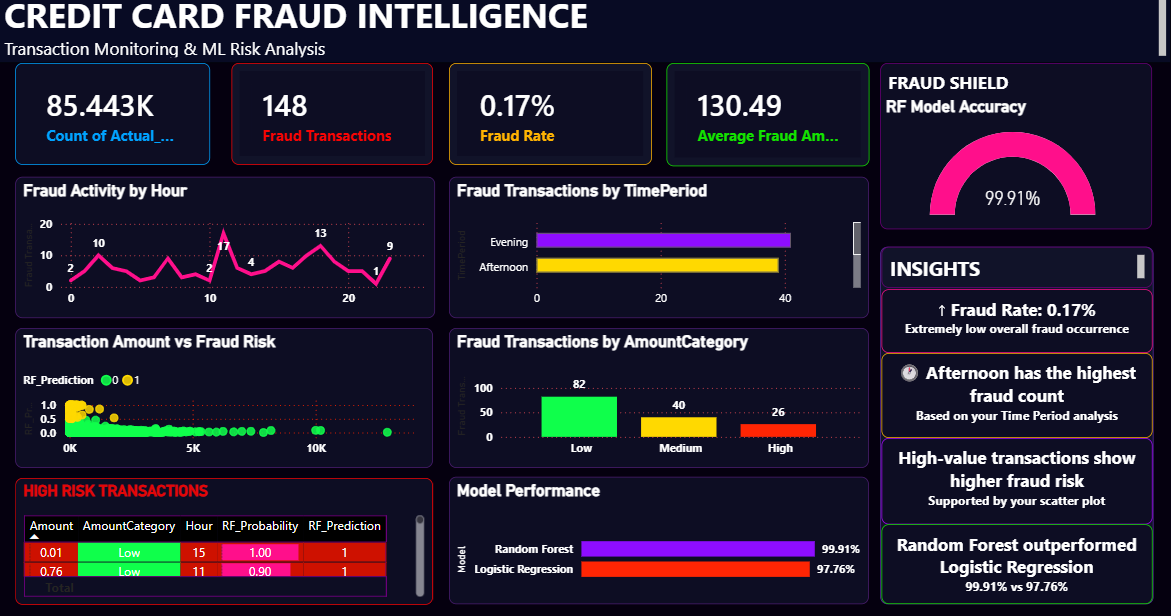

This screenshot's page, from the dashboard's own definition file:
{"tool":"powerbi","page":{"name":"Page 1","canvas":[1280,720],"ordinal":0},"visuals":[{"type":"textbox","box":[0,30,1280.3,84.6],"z":0},{"type":"cardVisual","fields":{"Data":["CountNonNull(fraud_predictions_for_powerbi_FIXED (1).Actual_Class)"]},"box":[17.7,114.7,212.9,111.4],"z":1000},{"type":"cardVisual","fields":{"Data":["fraud_predictions_for_powerbi_FIXED (1).Fraud Transactions"]},"box":[253.9,114.7,220,111.4],"z":2000},{"type":"cardVisual","fields":{"Data":["fraud_predictions_for_powerbi_FIXED (1).Fraud Rate"]},"box":[491.4,114.3,221.4,111.4],"z":3000},{"type":"cardVisual","fields":{"Data":["fraud_predictions_for_powerbi_FIXED (1).Average Fraud Amount"]},"box":[728.6,114.3,221.4,112.9],"z":4000},{"type":"lineChart","title":"Fraud Activity by Hour","fields":{"Y":["fraud_predictions_for_powerbi_FIXED (1).Fraud Transactions"],"Category":["fraud_predictions_for_powerbi_FIXED (1).Hour"]},"box":[17.7,238.9,458.6,154.2],"z":5000},{"type":"clusteredColumnChart","fields":{"Category":["fraud_predictions_for_powerbi_FIXED (1).AmountCategory"],"Y":["fraud_predictions_for_powerbi_FIXED (1).Fraud Transactions"]},"box":[491.4,404,458,152.9],"z":6000},{"type":"clusteredBarChart","fields":{"Category":["fraud_predictions_for_powerbi_FIXED (1).TimePeriod"],"Y":["fraud_predictions_for_powerbi_FIXED (1).Fraud Transactions"]},"box":[491.4,238.9,458.6,154.2],"z":7000},{"type":"scatterChart","title":"Transaction Amount vs Fraud Risk","fields":{"X":["fraud_predictions_for_powerbi_FIXED (1).Amount"],"Y":["fraud_predictions_for_powerbi_FIXED (1).RF_Probability"],"Series":["fraud_predictions_for_powerbi_FIXED (1).RF_Prediction"]},"box":[17.1,404.3,455.7,152.9],"z":8000},{"type":"actionButton","box":[0,0,100,40],"z":9000},{"type":"tableEx","title":"HIGH RISK TRANSACTIONS","fields":{"Values":["fraud_predictions_for_powerbi_FIXED (1).Amount","fraud_predictions_for_powerbi_FIXED (1).AmountCategory","fraud_predictions_for_powerbi_FIXED (1).Hour","fraud_predictions_for_powerbi_FIXED (1).RF_Probability","fraud_predictions_for_powerbi_FIXED (1).RF_Prediction"]},"box":[17.1,567.1,455.7,138.6],"z":10000},{"type":"clusteredBarChart","title":"Model Performance","fields":{"Category":["Table (2).Model"],"Y":["Sum(Table (2).Accuracy)"]},"box":[491.4,566.4,458.6,139.2],"z":11000},{"type":"textbox","box":[962.9,315.7,298.6,390],"z":12000,"group":"g2"},{"type":"textbox","box":[962.9,114.3,297.1,181.4],"z":13000,"group":"g1"},{"type":"textbox","box":[963.7,315.3,296.2,45],"z":14000,"group":"g2"},{"type":"gauge","fields":{"Y":["fraud_predictions_for_powerbi_FIXED (1).RF Model Accuracy"]},"box":[963.7,151.5,286.6,133.8],"z":15000,"group":"g1"},{"type":"textbox","box":[963.7,361.7,296.2,69.6],"z":16000,"group":"g2"},{"type":"textbox","box":[963.7,431.3,296.2,92.8],"z":17000,"group":"g2"},{"type":"textbox","box":[963.7,524.1,296.2,94.2],"z":18000,"group":"g2"},{"type":"textbox","box":[964.3,618.6,295.7,87.1],"z":19000,"group":"g2"},{"type":"group","id":"g1","title":"Group 1","box":[962.9,114.3,297.1,181.4],"z":19001},{"type":"group","id":"g2","title":"Group 2","box":[962.9,315.3,298.6,390.4],"z":19002}]}

Visuals, with their boxes on the page's 1280x720 design canvas (x1, y1, x2, y2). These are canvas units, not pixel positions in the 1171x616 screenshot, which may show the page scaled, cropped or inside an application window:
textbox: crop(0, 30, 1280, 115)
cardVisual - CountNonNull(fraud_predictions_for_powerbi_FIXED (1).Actual_Class): crop(18, 115, 231, 226)
cardVisual - fraud_predictions_for_powerbi_FIXED (1).Fraud Transactions: crop(254, 115, 474, 226)
cardVisual - fraud_predictions_for_powerbi_FIXED (1).Fraud Rate: crop(491, 114, 713, 226)
cardVisual - fraud_predictions_for_powerbi_FIXED (1).Average Fraud Amount: crop(729, 114, 950, 227)
"Fraud Activity by Hour" lineChart: crop(18, 239, 476, 393)
clusteredColumnChart - fraud_predictions_for_powerbi_FIXED (1).AmountCategory x fraud_predictions_for_powerbi_FIXED (1).Fraud Transactions: crop(491, 404, 949, 557)
clusteredBarChart - fraud_predictions_for_powerbi_FIXED (1).TimePeriod x fraud_predictions_for_powerbi_FIXED (1).Fraud Transactions: crop(491, 239, 950, 393)
"Transaction Amount vs Fraud Risk" scatterChart: crop(17, 404, 473, 557)
actionButton: crop(0, 0, 100, 40)
"HIGH RISK TRANSACTIONS" tableEx: crop(17, 567, 473, 706)
"Model Performance" clusteredBarChart: crop(491, 566, 950, 706)
textbox: crop(963, 316, 1262, 706)
textbox: crop(963, 114, 1260, 296)
textbox: crop(964, 315, 1260, 360)
gauge - fraud_predictions_for_powerbi_FIXED (1).RF Model Accuracy: crop(964, 152, 1250, 285)
textbox: crop(964, 362, 1260, 431)
textbox: crop(964, 431, 1260, 524)
textbox: crop(964, 524, 1260, 618)
textbox: crop(964, 619, 1260, 706)
"Group 1" group: crop(963, 114, 1260, 296)
"Group 2" group: crop(963, 315, 1262, 706)
